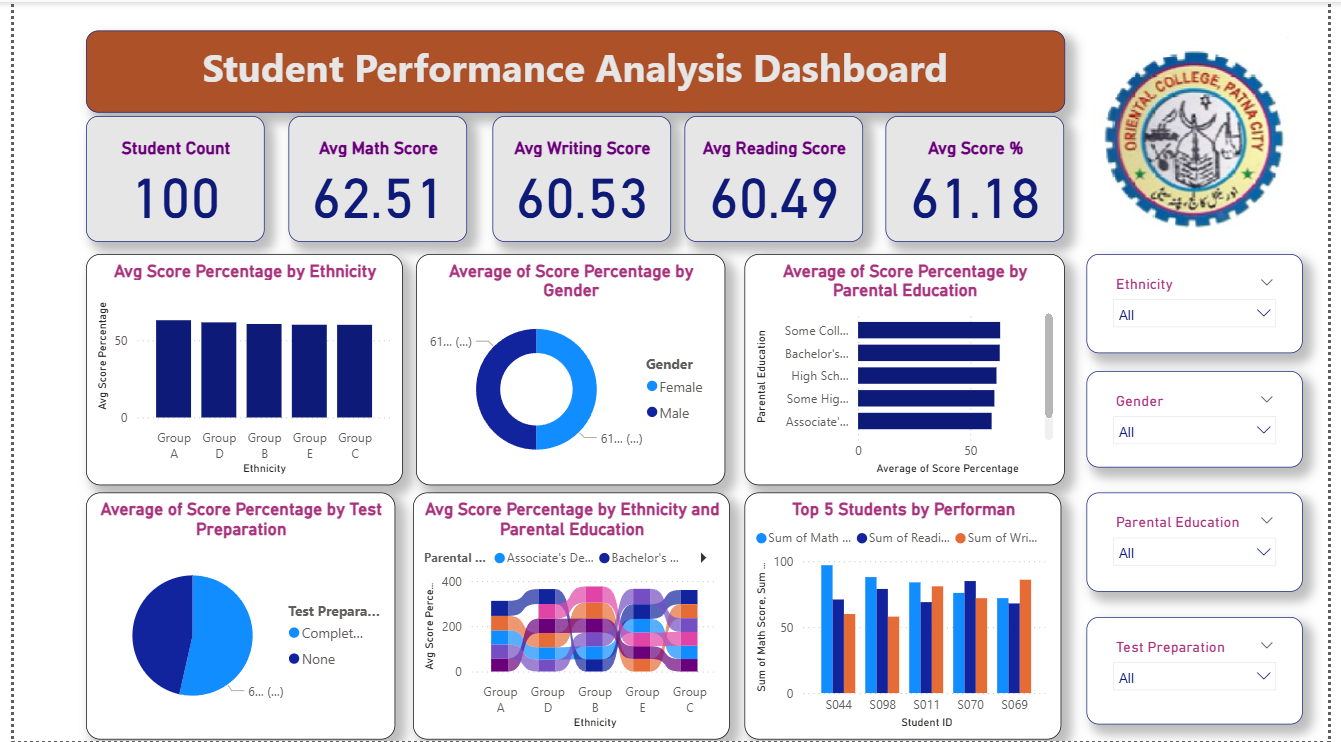

The page's visual inventory and layout, read from the dashboard file:
{"tool":"powerbi","page":{"name":"Page 1","canvas":[1280,720],"ordinal":0},"visuals":[{"type":"textbox","box":[69.7,27.3,953.9,80.3],"z":0},{"type":"image","box":[1044.8,27.3,210.5,205.9],"z":1000},{"type":"card","title":"Student Count","fields":{"Values":["Count(Sheet1.Student ID)"]},"box":[69.7,110.5,174.1,122.7],"z":2000},{"type":"card","title":"Avg Math Score","fields":{"Values":["Avg(Sheet1.Math Score)"]},"box":[268,110.5,174.1,122.7],"z":3000},{"type":"card","title":"Avg Writing Score","fields":{"Values":["Avg(Sheet1.Writing Score)"]},"box":[466.4,110.5,174.1,122.7],"z":4000},{"type":"card","title":"Avg Reading Score","fields":{"Values":["Avg(Sheet1.Reading Score)"]},"box":[652.6,110.5,174.1,122.7],"z":5000},{"type":"card","title":"Avg Score %","fields":{"Values":["Avg(Sheet1.Score Percentage)"]},"box":[849.5,110.5,174.1,122.7],"z":6000},{"type":"slicer","title":"Ethnicity","fields":{"Values":["Sheet1.Ethnicity"]},"box":[1044.8,245.3,210.5,96.9],"z":7000},{"type":"slicer","fields":{"Values":["Sheet1.Gender"]},"box":[1044.8,358.9,210.5,93.9],"z":8000},{"type":"slicer","fields":{"Values":["Sheet1.Parental Education"]},"box":[1044.8,478.5,210.5,96.9],"z":9000},{"type":"columnChart","fields":{"Category":["Sheet1.Ethnicity"],"Y":["Avg(Sheet1.Score Percentage)"]},"box":[69.7,245.3,308.9,225.6],"z":10000},{"type":"donutChart","fields":{"Category":["Sheet1.Gender"],"Y":["Avg(Sheet1.Score Percentage)"]},"box":[392.2,245.3,301.3,225.6],"z":11000},{"type":"clusteredBarChart","fields":{"Y":["Avg(Sheet1.Score Percentage)"],"Category":["Sheet1.Parental Education"]},"box":[711.7,245.3,311.9,225.6],"z":12000},{"type":"pieChart","fields":{"Category":["Sheet1.Test Preparation"],"Y":["Avg(Sheet1.Score Percentage)"]},"box":[69.7,478.5,301.3,240.8],"z":13000},{"type":"ribbonChart","fields":{"Category":["Sheet1.Ethnicity"],"Y":["Avg(Sheet1.Score Percentage)"],"Series":["Sheet1.Parental Education"]},"box":[389.2,478.5,308.9,240.8],"z":14000},{"type":"slicer","fields":{"Values":["Sheet1.Test Preparation"]},"box":[1044.8,599.6,210.5,104.5],"z":15000},{"type":"clusteredColumnChart","title":"Top 5 Students by Performan","fields":{"Y":["Sum(Sheet1.Math Score)","Sum(Sheet1.Reading Score)","Sum(Sheet1.Writing Score)"],"Category":["Sheet1.Student ID"]},"box":[711.7,478.5,308.9,240.8],"z":16000}]}

Visuals, with their boxes in screenshot pixels (x1, y1, x2, y2), scaled from the page's 1280x720 canvas onto the 1341x742 screenshot:
textbox: Rect(73, 28, 1072, 111)
image: Rect(1095, 28, 1315, 240)
"Student Count" card: Rect(73, 114, 255, 240)
"Avg Math Score" card: Rect(281, 114, 463, 240)
"Avg Writing Score" card: Rect(489, 114, 671, 240)
"Avg Reading Score" card: Rect(684, 114, 866, 240)
"Avg Score %" card: Rect(890, 114, 1072, 240)
"Ethnicity" slicer: Rect(1095, 253, 1315, 353)
slicer - Sheet1.Gender: Rect(1095, 370, 1315, 467)
slicer - Sheet1.Parental Education: Rect(1095, 493, 1315, 593)
columnChart - Sheet1.Ethnicity x Avg(Sheet1.Score Percentage): Rect(73, 253, 397, 485)
donutChart - Sheet1.Gender x Avg(Sheet1.Score Percentage): Rect(411, 253, 727, 485)
clusteredBarChart - Avg(Sheet1.Score Percentage) x Sheet1.Parental Education: Rect(746, 253, 1072, 485)
pieChart - Sheet1.Test Preparation x Avg(Sheet1.Score Percentage): Rect(73, 493, 389, 741)
ribbonChart - Sheet1.Ethnicity x Avg(Sheet1.Score Percentage): Rect(408, 493, 731, 741)
slicer - Sheet1.Test Preparation: Rect(1095, 618, 1315, 726)
"Top 5 Students by Performan" clusteredColumnChart: Rect(746, 493, 1069, 741)
